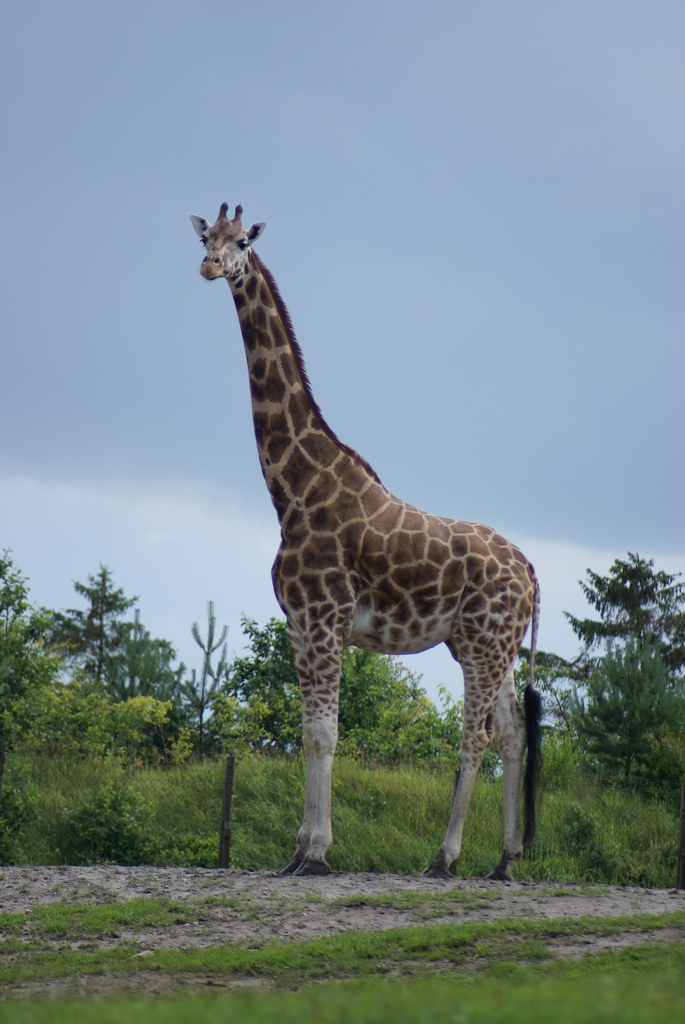giraffe: (181, 195, 581, 901)
